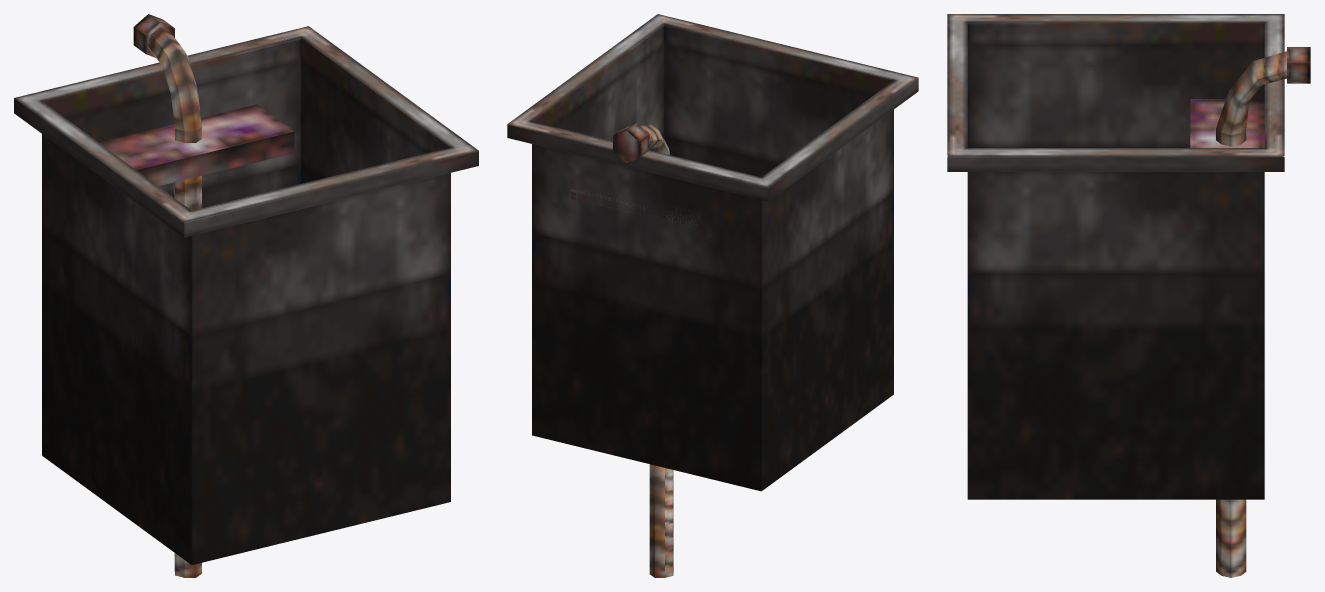
File: Poly_SF_Outside_B_Hole_Rope_01.obj
3 views of the same model, side by side, from view 1: azimuth 30°, elevation 25°; view 2: azimuth 150°, elevation 25°; view 3: azimuth 270°, elevation 25° (orthographic). The views are drawn at different scales.
Parts seen in each view (by area): view 1: Cube, Cube_Cube.001; view 2: Cube, Cube_Cube.001; view 3: Cube, Cube_Cube.001.
Part boxes in pixels (bbox=[...]): Cube: bbox=[14, 14, 478, 564]; Cube_Cube.001: bbox=[147, 27, 201, 577]; Cube: bbox=[507, 14, 918, 491]; Cube_Cube.001: bbox=[639, 124, 673, 577]; Cube: bbox=[947, 14, 1310, 499]; Cube_Cube.001: bbox=[1216, 51, 1286, 577].
Size of the model in its own units: 1 by 1.72 by 1.08.
1 material, 1 textured.
